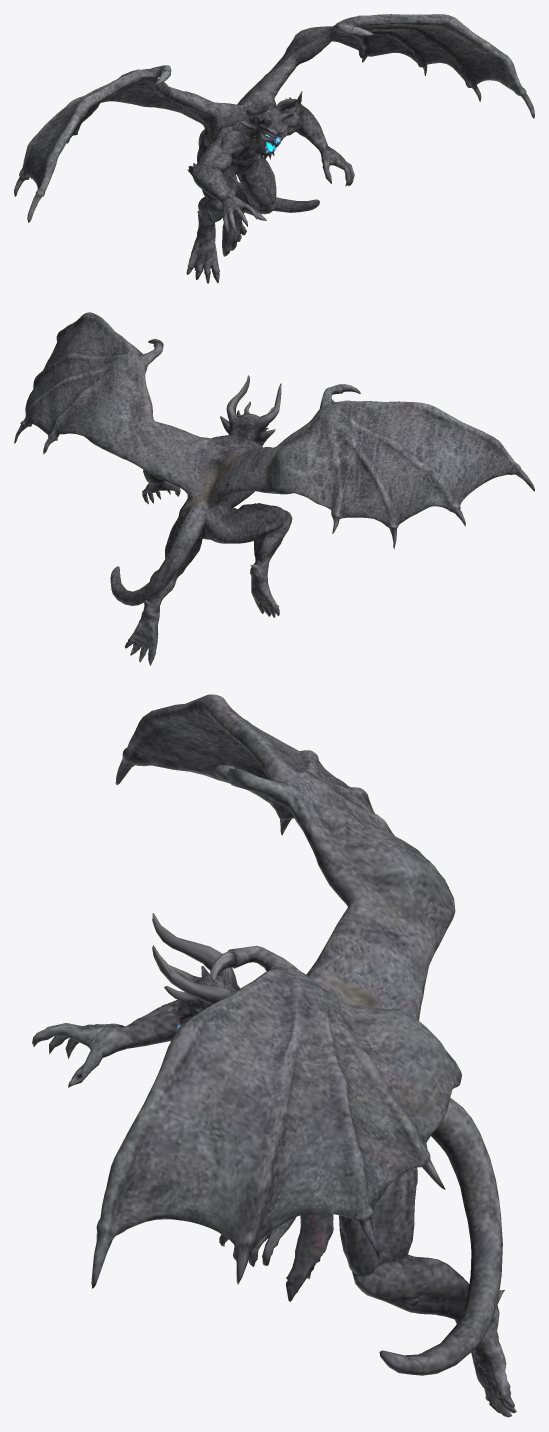
The model's file is MZ4250 - Gargoyle_Flying_2025.glb.
3 renders of one model, top to bottom at view 1: azimuth 30°, elevation 25°; view 2: azimuth 150°, elevation 25°; view 3: azimuth 270°, elevation 25°, orthographic. The views are drawn at different scales.
Visible parts, largest first — view 1: Gargoyle Flying.001; view 2: Gargoyle Flying.001; view 3: Gargoyle Flying.001.
Boxes of the visible parts, bbox=[...] form: Gargoyle Flying.001: bbox=[14, 14, 534, 283]; Gargoyle Flying.001: bbox=[14, 312, 534, 665]; Gargoyle Flying.001: bbox=[32, 694, 516, 1417].
Size of the model in its own units: 210 by 107 by 89.57.
1 material, 1 textured.
